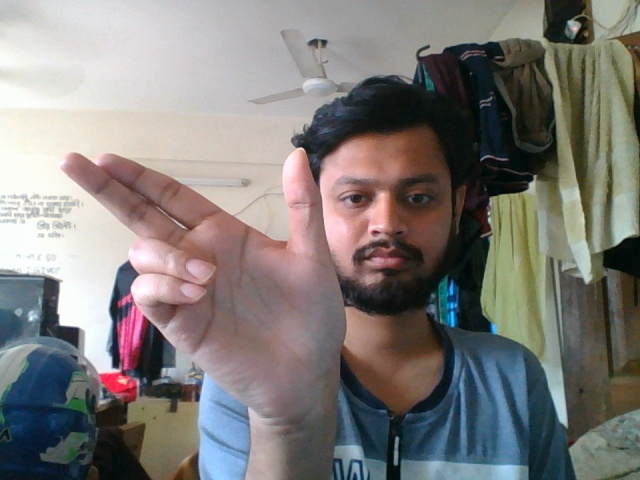jha: (53, 142, 352, 406)
